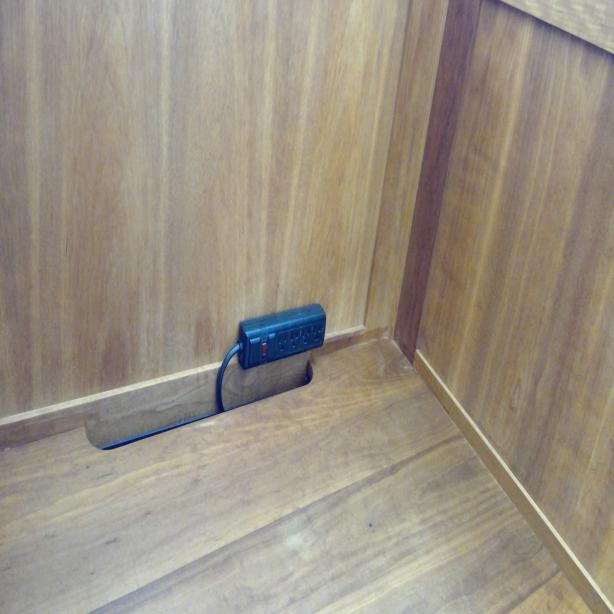typeb: (277, 331, 288, 354), (301, 324, 311, 348), (290, 328, 300, 350), (312, 323, 322, 343)
